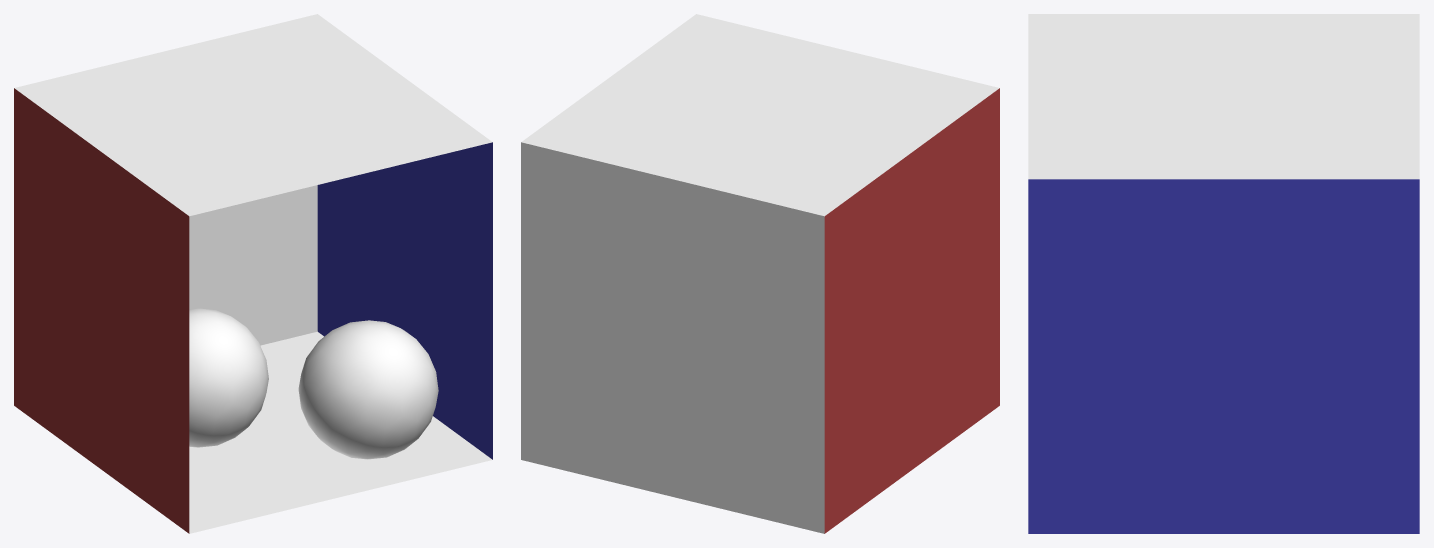
Rendered from cbox.dae.
The picture shows the model from 3 angles, left to right: view 1: azimuth 30°, elevation 25°; view 2: azimuth 150°, elevation 25°; view 3: azimuth 270°, elevation 25°; orthographic projection. The views are drawn at different scales.
Visible parts, largest first — view 1: Square-S3D-14, Square-S3D-16, Square-S3D-15, Square-S3D-18, Square-S3D-17, Object_19-S3D-20-SMOOTHED, Object_18-S3D-19-SMOOTHED; view 2: Square-S3D-17, Square-S3D-14, Square-S3D-16; view 3: Square-S3D-15, Square-S3D-16.
Boxes of the visible parts, x1,y1,x2,y2 form: Square-S3D-14: (14, 88, 189, 533); Square-S3D-16: (14, 14, 492, 216); Square-S3D-15: (317, 142, 492, 459); Square-S3D-18: (189, 331, 492, 533); Square-S3D-17: (189, 185, 317, 345); Object_19-S3D-20-SMOOTHED: (298, 320, 438, 459); Object_18-S3D-19-SMOOTHED: (189, 308, 268, 447); Square-S3D-17: (521, 142, 824, 533); Square-S3D-14: (824, 88, 999, 533); Square-S3D-16: (521, 14, 999, 216); Square-S3D-15: (1028, 179, 1419, 533); Square-S3D-16: (1028, 14, 1419, 179).
Bounding box in the file's own units: 1 × 1 × 1.
